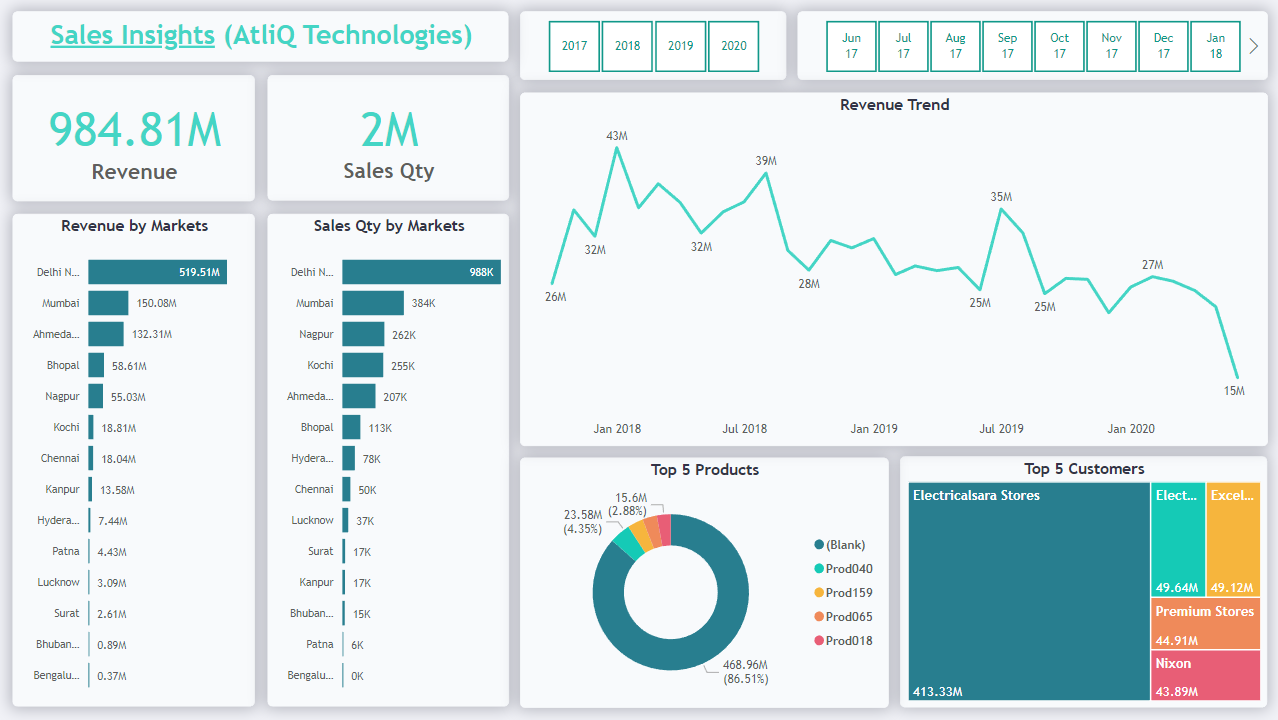

What the dashboard file says about the page in this screenshot:
{"tool":"powerbi","page":{"name":"Page 1","canvas":[1280,720],"ordinal":0},"visuals":[{"type":"card","fields":{"Values":["BaseMeasures.Revenue"]},"box":[12.5,75,242.5,126.2],"z":0},{"type":"card","fields":{"Values":["BaseMeasures.Sales Qty"]},"box":[267.2,75.4,241.8,125.4],"z":1000},{"type":"barChart","title":"Revenue by Markets","fields":{"Y":["BaseMeasures.Revenue"],"Category":["sales markets.markets_name"]},"box":[12.5,213.8,242.5,492.5],"z":2000},{"type":"barChart","title":"Sales Qty by Markets","fields":{"Category":["sales markets.markets_name"],"Y":["BaseMeasures.Sales Qty"]},"box":[267.2,214.2,241.8,492.5],"z":3000},{"type":"slicer","fields":{"Values":["sales date.year"]},"box":[520,11.2,266.2,68.8],"z":4000},{"type":"slicer","fields":{"Values":["sales date.cy_date"]},"box":[797.5,11.2,470,68.8],"z":5000},{"type":"treemap","title":"Top 5 Customers","fields":{"Group":["sales customers.custmer_name"],"Values":["BaseMeasures.Revenue"]},"box":[900,456.6,367.1,251.3],"z":6000},{"type":"donutChart","title":"Top 5 Products","fields":{"Category":["sales products.product_code"],"Y":["BaseMeasures.Revenue"]},"box":[519.7,457.9,368.4,250],"z":7000},{"type":"lineChart","title":"Revenue Trend","fields":{"Y":["BaseMeasures.Revenue"],"Category":["sales date.cy_date"]},"box":[520.1,92.5,747.8,353.7],"z":8000},{"type":"textbox","box":[12.5,11.2,496.2,50],"z":9000}]}

Visuals, with their boxes in screenshot pixels (x1, y1, x2, y2), scaled from the page's 1280x720 canvas onto the 1278x720 screenshot:
card - BaseMeasures.Revenue: 12 75 255 201
card - BaseMeasures.Sales Qty: 267 75 508 201
"Revenue by Markets" barChart: 12 214 255 706
"Sales Qty by Markets" barChart: 267 214 508 707
slicer - sales date.year: 519 11 785 80
slicer - sales date.cy_date: 796 11 1266 80
"Top 5 Customers" treemap: 899 457 1265 708
"Top 5 Products" donutChart: 519 458 887 708
"Revenue Trend" lineChart: 519 92 1266 446
textbox: 12 11 508 61
